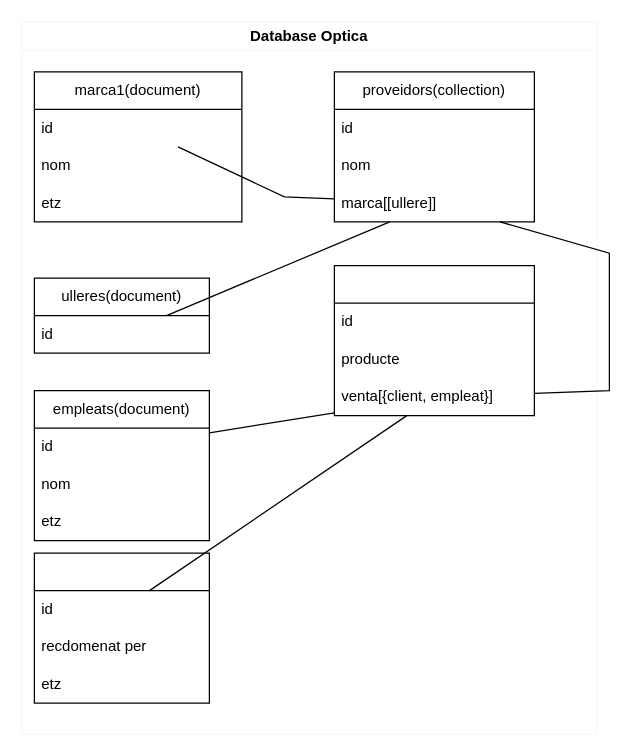
Image size: 633x756. Some labels were removed from this diagram. Each missing label, with the box of its shape:
client1(document): (33, 552, 209, 703)
ventas(collection): (333, 264, 534, 416)
